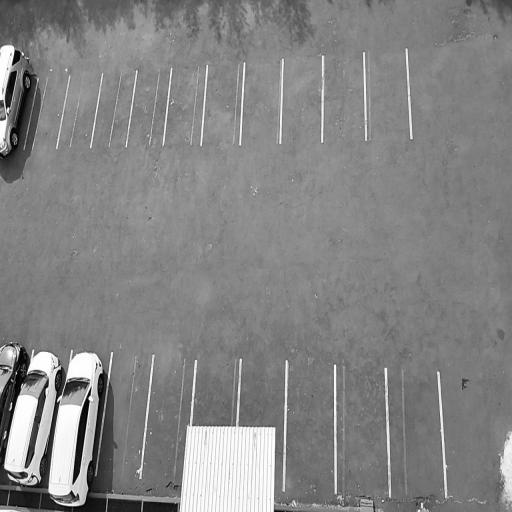Car: (42, 343, 112, 511), (0, 346, 66, 489), (0, 42, 38, 167), (0, 337, 34, 474)
Space Available: (385, 365, 446, 499), (334, 364, 390, 495), (283, 359, 336, 494), (95, 353, 154, 474), (141, 353, 192, 479), (364, 49, 412, 139), (239, 59, 283, 144), (324, 52, 366, 140), (203, 61, 245, 145), (282, 55, 322, 142), (56, 74, 102, 149), (92, 70, 137, 146), (238, 357, 286, 428), (127, 69, 172, 144), (165, 66, 207, 144), (24, 76, 69, 148), (190, 360, 241, 423)
